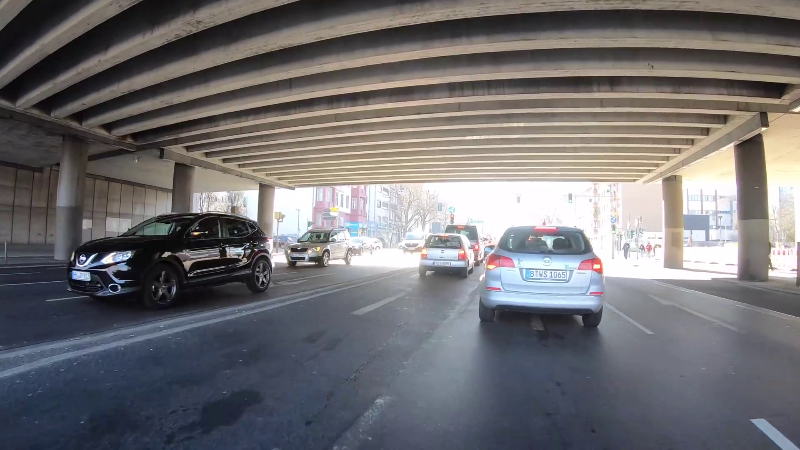Plate: (524, 266, 569, 280), (68, 269, 91, 280), (431, 260, 452, 267)
